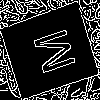M: (24, 26, 77, 80)
